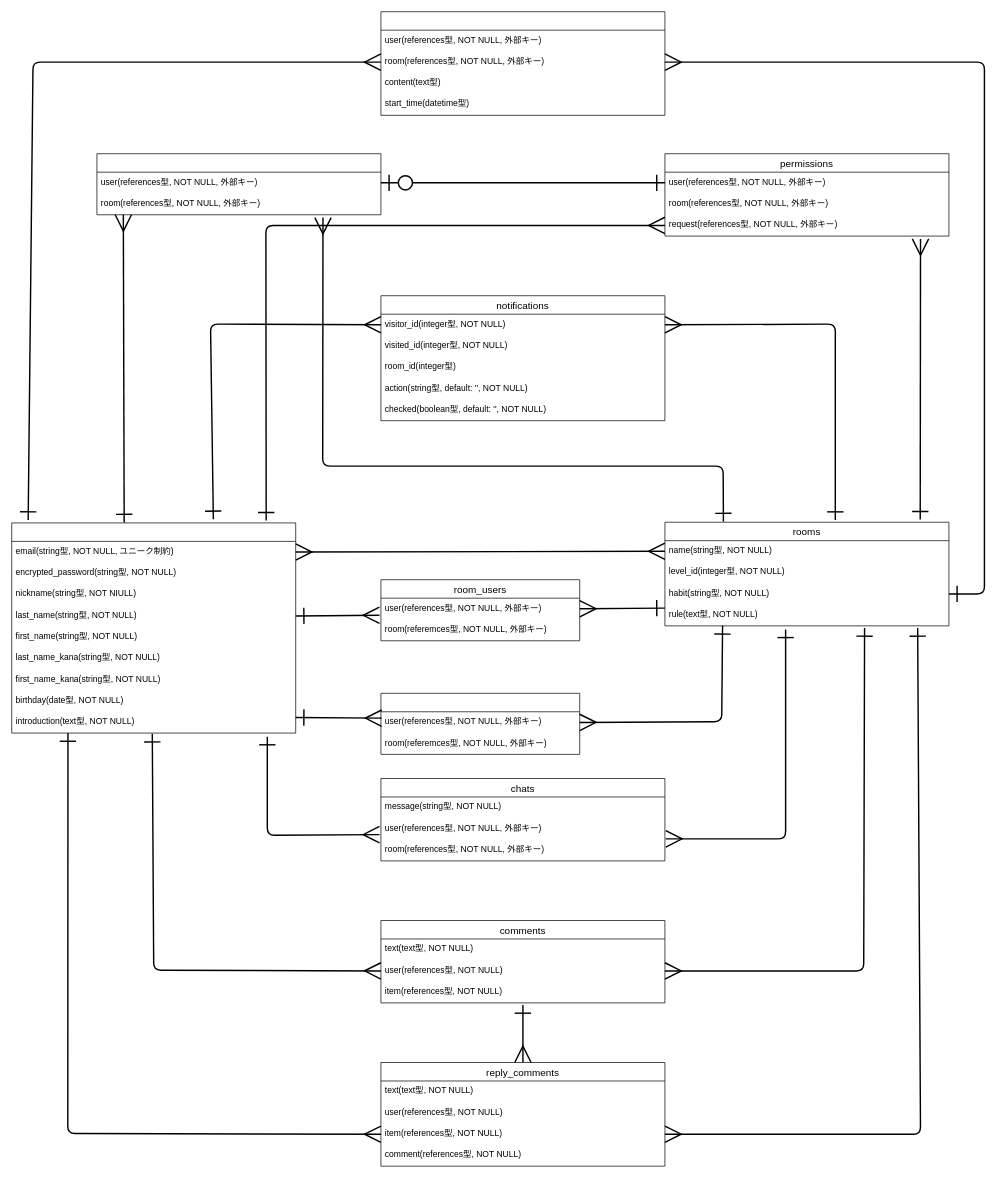
The diagram is 996 pixels wide and 1178 high, and some of its shapes have lost their labels. Each missing label, with the box of its shape:
events: (380, 11, 665, 115)
likes: (380, 693, 580, 754)
requests: (96, 153, 381, 215)
users: (11, 522, 296, 733)
